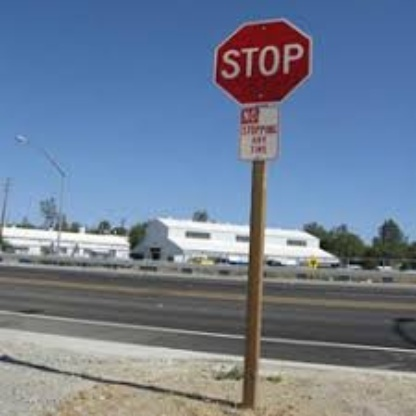stop: (212, 19, 313, 102)
